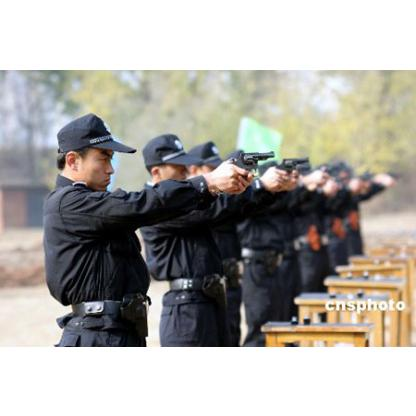gun: (224, 146, 275, 184), (276, 154, 308, 180)
